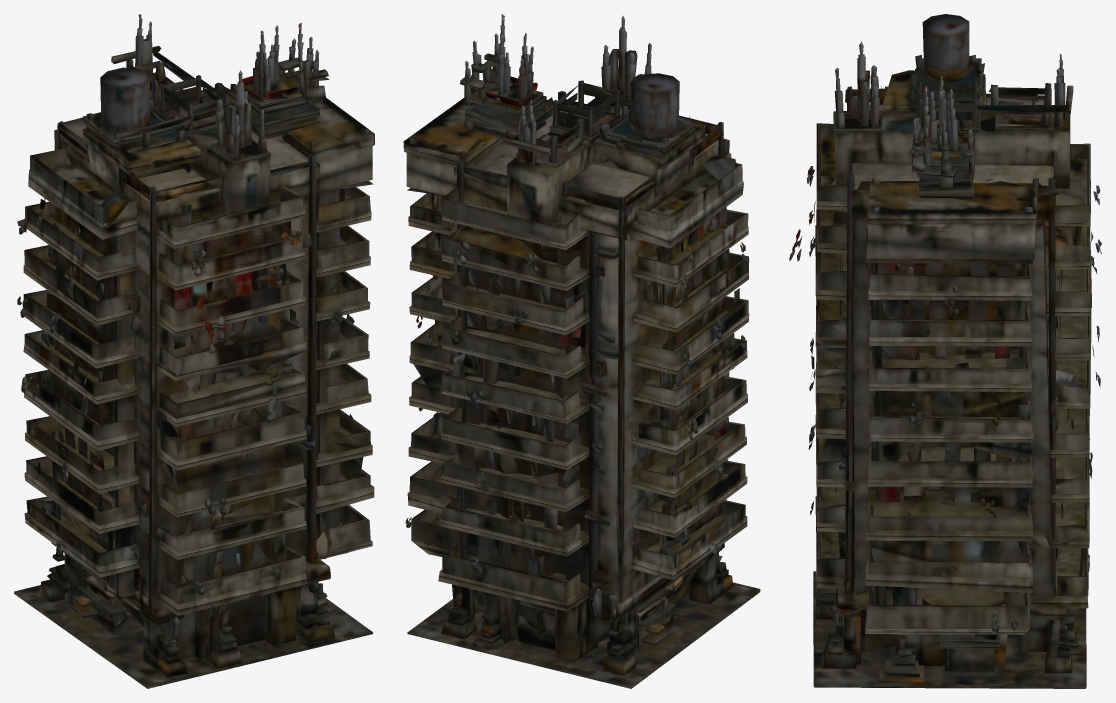
The model's file is tower.glb.
The picture shows the model from 3 angles, left to right: view 1: azimuth 30°, elevation 25°; view 2: azimuth 150°, elevation 25°; view 3: azimuth 270°, elevation 25°; orthographic projection. The views are drawn at different scales.
Parts seen in each view (by area): view 1: geometry_0; view 2: geometry_0; view 3: geometry_0.
Part boxes in pixels (x1,y1,x2,y2): geometry_0: (14,14,374,688); geometry_0: (403,14,760,688); geometry_0: (789,14,1101,688).
Size of the model in its own units: 0.532 by 0.9986 by 0.4759.
Materials: 1 (1 with a texture image).
